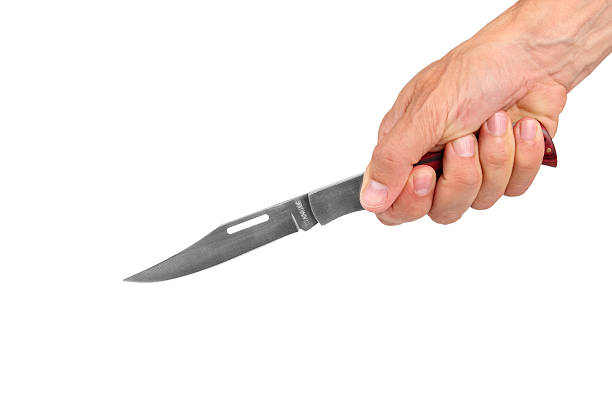knife: (121, 118, 559, 284)
